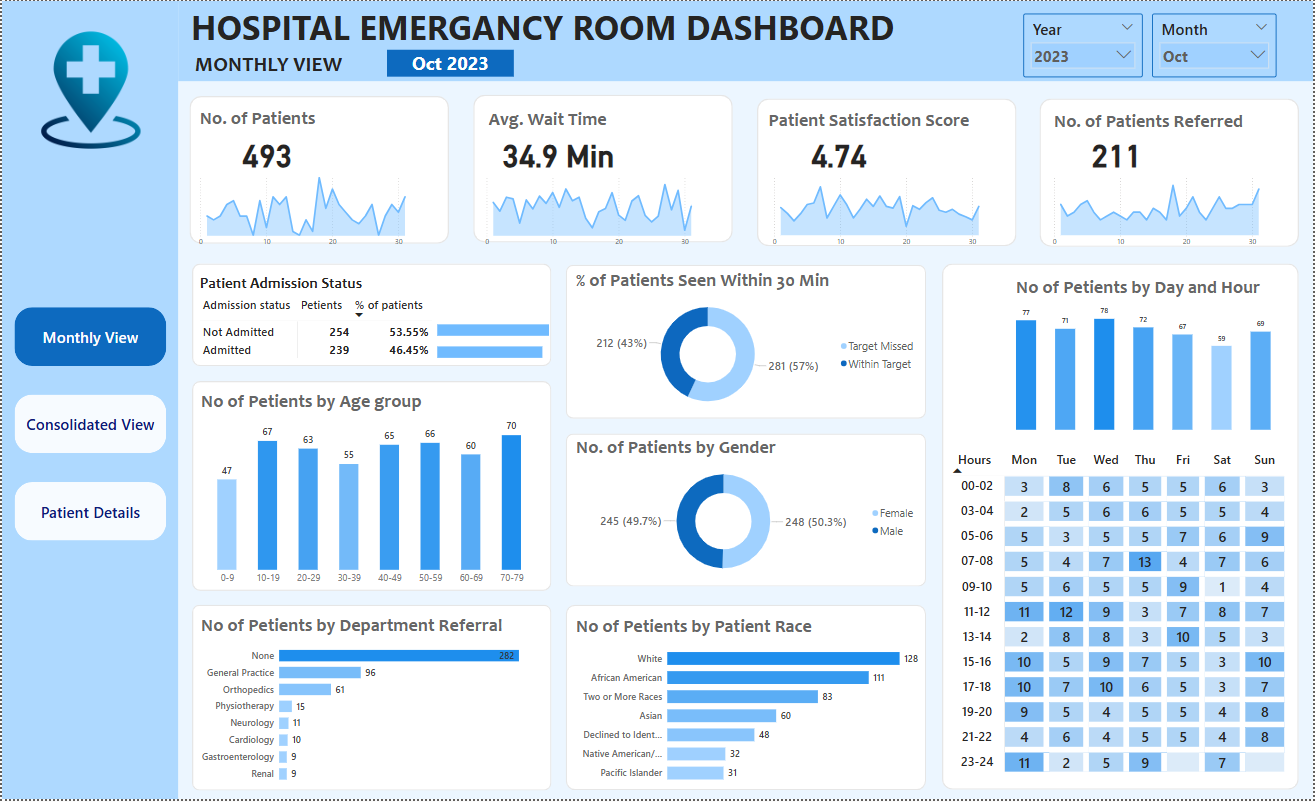

The page's visual inventory and layout, read from the dashboard file:
{"tool":"powerbi","page":{"name":"Monthly View","canvas":[2300,1400],"ordinal":0},"visuals":[{"type":"shape","box":[0,0,309.1,1400.5],"z":0},{"type":"shape","box":[308.7,0,1989.8,140.5],"z":1000},{"type":"textbox","box":[327,0,1284.6,96.2],"z":2000},{"type":"textbox","box":[332.5,82.5,285,57.5],"z":3000},{"type":"shape","box":[327.9,166.7,455,259],"z":4000},{"type":"areaChart","fields":{"Category":["Date Table.Date.Variation.Date Hierarchy.Day"],"Y":["Hospital ER_Data.No of Petients"]},"box":[332.5,295,435,145],"z":5000},{"type":"card","fields":{"Values":["Hospital ER_Data.No of Petients"]},"box":[389.9,216.4,149.8,95.1],"z":6000},{"type":"slicer","fields":{"Values":["Date Table.Year"]},"box":[1790.4,21.4,209.2,111.8],"z":7000},{"type":"slicer","fields":{"Values":["Date Table.Month Name"]},"box":[2016.3,21.4,218.8,111.8],"z":8000},{"type":"textbox","box":[342.5,180,240,60],"z":9000},{"type":"card","fields":{"Values":["Min(Date Table.Month & Year)"]},"box":[675,85,222.5,47.5],"z":10000},{"type":"shape","box":[825.3,165,455,259],"z":11000},{"type":"card","fields":{"Values":["Hospital ER_Data.Avg wait time"]},"box":[846.5,216.4,259.2,95.1],"z":12000},{"type":"textbox","box":[847.5,182.5,257.5,60],"z":13000},{"type":"shape","box":[1322.6,170,455,259],"z":14000},{"type":"shape","box":[1820,170,455,260],"z":15000},{"type":"areaChart","fields":{"Category":["Date Table.Date.Variation.Date Hierarchy.Day"],"Y":["Avg(Hospital ER_Data.Patient Waittime)"]},"box":[835,295,435,145],"z":16000},{"type":"textbox","box":[1338.7,183.1,380.4,59.4],"z":17000},{"type":"card","fields":{"Values":["Hospital ER_Data.Satisfaction score"]},"box":[1338.7,216.4,256.8,95.1],"z":18000},{"type":"areaChart","fields":{"Category":["Date Table.Date.Variation.Date Hierarchy.Day"],"Y":["Hospital ER_Data.Satisfaction score"]},"box":[1338.7,294.8,435.1,145],"z":19000},{"type":"textbox","box":[1826.1,185.5,380.4,59.4],"z":20000},{"type":"shape","box":[332.9,461.3,630,180],"z":21000},{"type":"card","fields":{"Values":["Hospital ER_Data.No of patients referred"]},"box":[1826.1,216.4,256.8,95.1],"z":22000},{"type":"areaChart","fields":{"Category":["Date Table.Date.Variation.Date Hierarchy.Day"],"Y":["Hospital ER_Data.No of patients referred"]},"box":[1830.9,294.8,435.1,145],"z":23000},{"type":"pivotTable","title":"Patient Admission Status","fields":{"Rows":["Hospital ER_Data.Admission status"],"Values":["Hospital ER_Data.No of Petients","Hospital ER_Data.No of patients referred"]},"box":[342.4,477.9,599.2,159.3],"z":24000},{"type":"barChart","fields":{"Category":["Hospital ER_Data.Admission status"],"Y":["Hospital ER_Data.No of Petients"]},"box":[758.6,534.3,241.4,118.6],"z":25000},{"type":"shape","box":[332.5,665.7,630,368],"z":26000},{"type":"clusteredColumnChart","fields":{"Category":["Hospital ER_Data.Age group"],"Y":["Hospital ER_Data.No of Petients"]},"box":[344.8,682.4,601.6,351.9],"z":27000},{"type":"shape","box":[332.9,1058.1,630.1,325.7],"z":28000},{"type":"clusteredBarChart","fields":{"Category":["Hospital ER_Data.Department Referral"],"Y":["Hospital ER_Data.No of Petients"]},"box":[344.8,1074.7,601.6,309.1],"z":29000},{"type":"image","box":[42.8,47.6,223.5,216.4],"z":30000},{"type":"shape","box":[988.3,461.7,631.7,270],"z":31000},{"type":"donutChart","title":"% of Patients Seen Within 30 Min","fields":{"Category":["Hospital ER_Data.Wait time status"],"Y":["Hospital ER_Data.No of Petients"]},"box":[1001.7,470,610,261.7],"z":32000},{"type":"shape","box":[988.3,758.3,631.7,268.3],"z":33000},{"type":"donutChart","title":"No. of Patients by Gender","fields":{"Y":["Hospital ER_Data.No of Petients"],"Category":["Hospital ER_Data.Patient Gender"]},"box":[1001.7,763.3,610,260],"z":34000},{"type":"shape","box":[988.3,1058.3,631.7,325],"z":35000},{"type":"clusteredBarChart","fields":{"Y":["Hospital ER_Data.No of Petients"],"Category":["Hospital ER_Data.Patient Race"]},"box":[1001.7,1075,610,308.3],"z":36000},{"type":"shape","box":[1647.8,461.3,625.3,922.6],"z":37000},{"type":"pivotTable","fields":{"Rows":["Hospital ER_Data.Waittime interval"],"Columns":["Date Table.Day name"],"Values":["Hospital ER_Data.No of Petients"]},"box":[1657.3,782.3,603.9,584.9],"z":38000},{"type":"columnChart","title":"No of Petients by Day and Hour","fields":{"Category":["Date Table.Day name"],"Y":["Hospital ER_Data.No of Petients"]},"box":[1773.8,482.7,458.9,275.8],"z":39000},{"type":"pageNavigator","box":[21.4,537.4,266.3,411.3],"z":40000}]}

Visuals, with their boxes in screenshot pixels (x1, y1, x2, y2), scaled from the page's 2300x1400 canvas onto the 1315x802 screenshot:
shape: [0,0,177,801]
shape: [176,0,1314,80]
textbox: [187,0,921,55]
textbox: [190,47,353,80]
shape: [187,95,448,244]
areaChart - Date Table.Date.Variation.Date Hierarchy.Day x Hospital ER_Data.No of Petients: [190,169,439,252]
card - Hospital ER_Data.No of Petients: [223,124,309,178]
slicer - Date Table.Year: [1024,12,1143,76]
slicer - Date Table.Month Name: [1153,12,1278,76]
textbox: [196,103,333,137]
card - Min(Date Table.Month & Year): [386,49,513,76]
shape: [472,95,732,243]
card - Hospital ER_Data.Avg wait time: [484,124,632,178]
textbox: [485,105,632,139]
shape: [756,97,1016,246]
shape: [1041,97,1301,246]
areaChart - Date Table.Date.Variation.Date Hierarchy.Day x Avg(Hospital ER_Data.Patient Waittime): [477,169,726,252]
textbox: [765,105,983,139]
card - Hospital ER_Data.Satisfaction score: [765,124,912,178]
areaChart - Date Table.Date.Variation.Date Hierarchy.Day x Hospital ER_Data.Satisfaction score: [765,169,1014,252]
textbox: [1044,106,1262,140]
shape: [190,264,551,367]
card - Hospital ER_Data.No of patients referred: [1044,124,1191,178]
areaChart - Date Table.Date.Variation.Date Hierarchy.Day x Hospital ER_Data.No of patients referred: [1047,169,1296,252]
"Patient Admission Status" pivotTable: [196,274,538,365]
barChart - Hospital ER_Data.Admission status x Hospital ER_Data.No of Petients: [434,306,572,374]
shape: [190,381,550,592]
clusteredColumnChart - Hospital ER_Data.Age group x Hospital ER_Data.No of Petients: [197,391,541,593]
shape: [190,606,551,793]
clusteredBarChart - Hospital ER_Data.Department Referral x Hospital ER_Data.No of Petients: [197,616,541,793]
image: [24,27,152,151]
shape: [565,264,926,419]
"% of Patients Seen Within 30 Min" donutChart: [573,269,921,419]
shape: [565,434,926,588]
"No. of Patients by Gender" donutChart: [573,437,921,586]
shape: [565,606,926,792]
clusteredBarChart - Hospital ER_Data.No of Petients x Hospital ER_Data.Patient Race: [573,616,921,792]
shape: [942,264,1300,793]
pivotTable - Hospital ER_Data.Waittime interval x Date Table.Day name: [948,448,1293,783]
"No of Petients by Day and Hour" columnChart: [1014,277,1277,435]
pageNavigator: [12,308,164,543]
